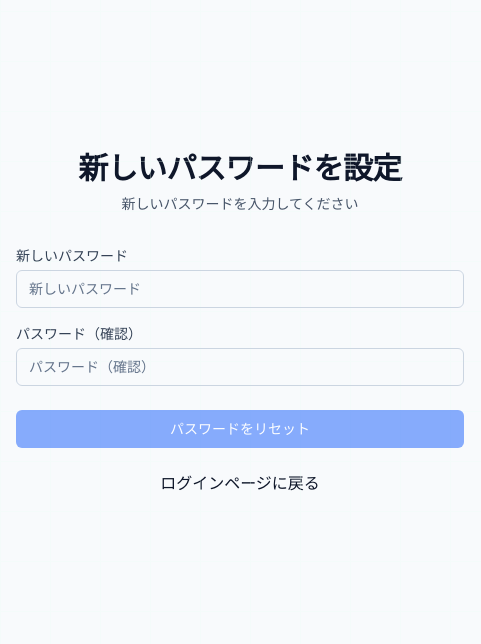
it: ResetPasswordPage › password submission › shows error on submission failure
expect the heading "新しいパスワードを設定" is shown: met, box [78, 149, 402, 187]
In the password field with placeholder "新しいパスワード": (240, 289) [16, 270, 464, 308], type "Password123"
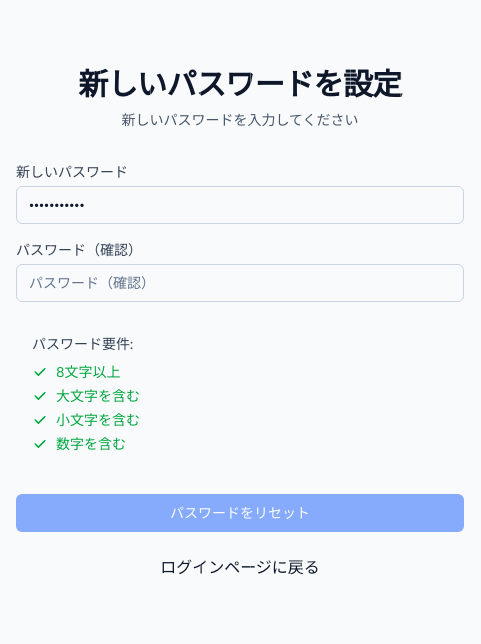
In the password field with placeholder "パスワード（確認）": (240, 283) [16, 264, 464, 302], type "Password123"
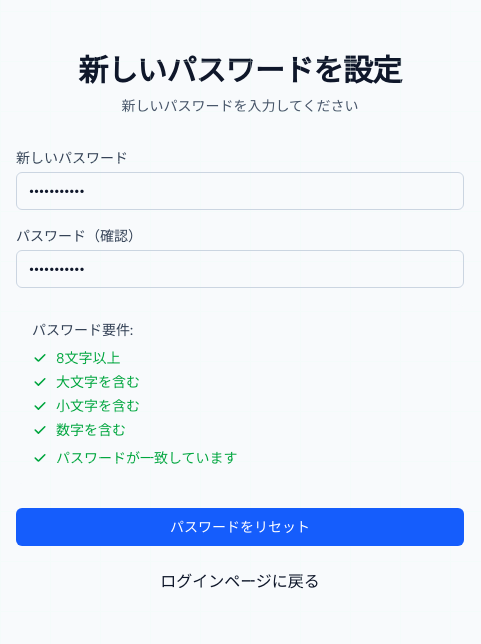
Click the button "パスワードをリセット": click(240, 527) [16, 508, 464, 546]
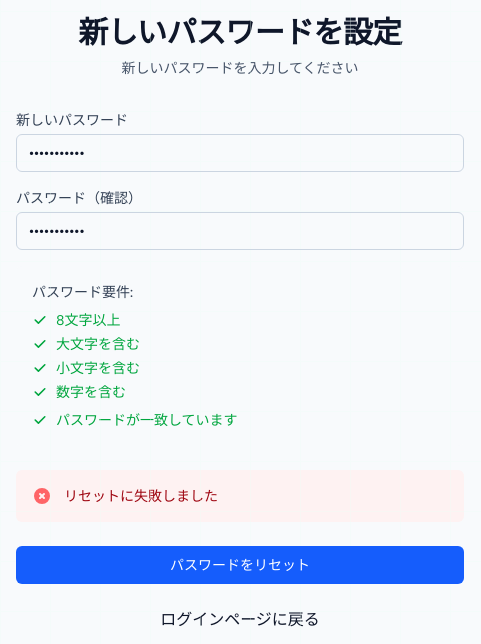
expect the text "リセットに失敗しました" is shown: met, box [64, 486, 218, 506]
